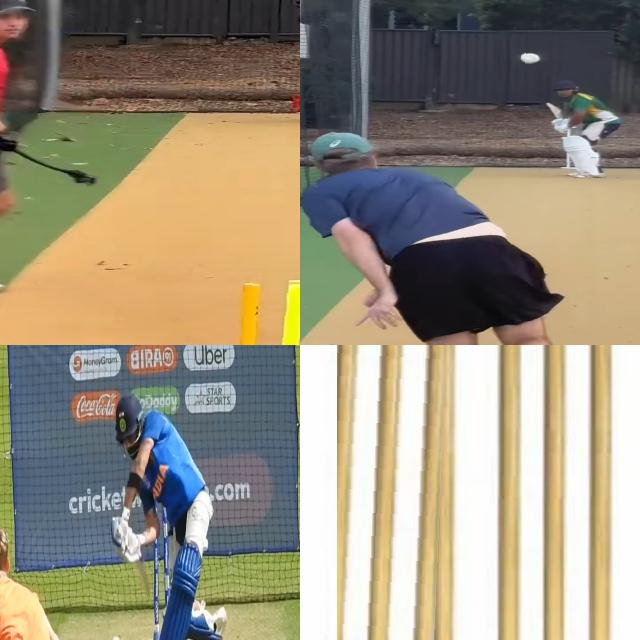Cricket ball: (517, 49, 543, 65), (110, 634, 121, 640)
Stumps: (493, 345, 614, 640), (337, 345, 452, 640), (226, 278, 300, 345)
